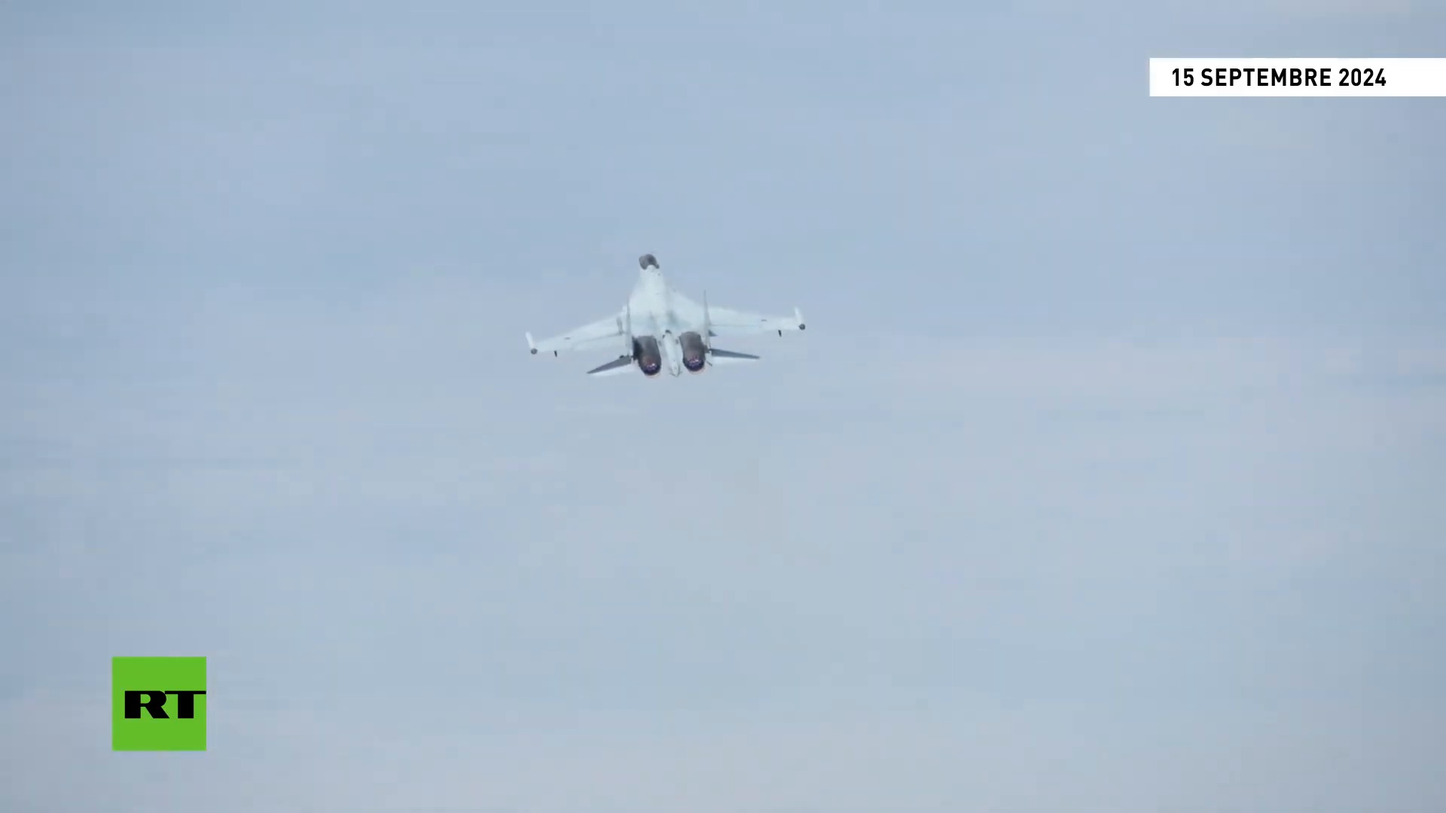Su35: (524, 250, 807, 381)
